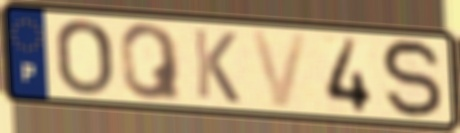4: (322, 35, 375, 116)
K: (190, 26, 242, 106)
O: (53, 17, 115, 98)
Q: (117, 21, 185, 102)
S: (379, 36, 446, 121)
V: (247, 28, 312, 110)
